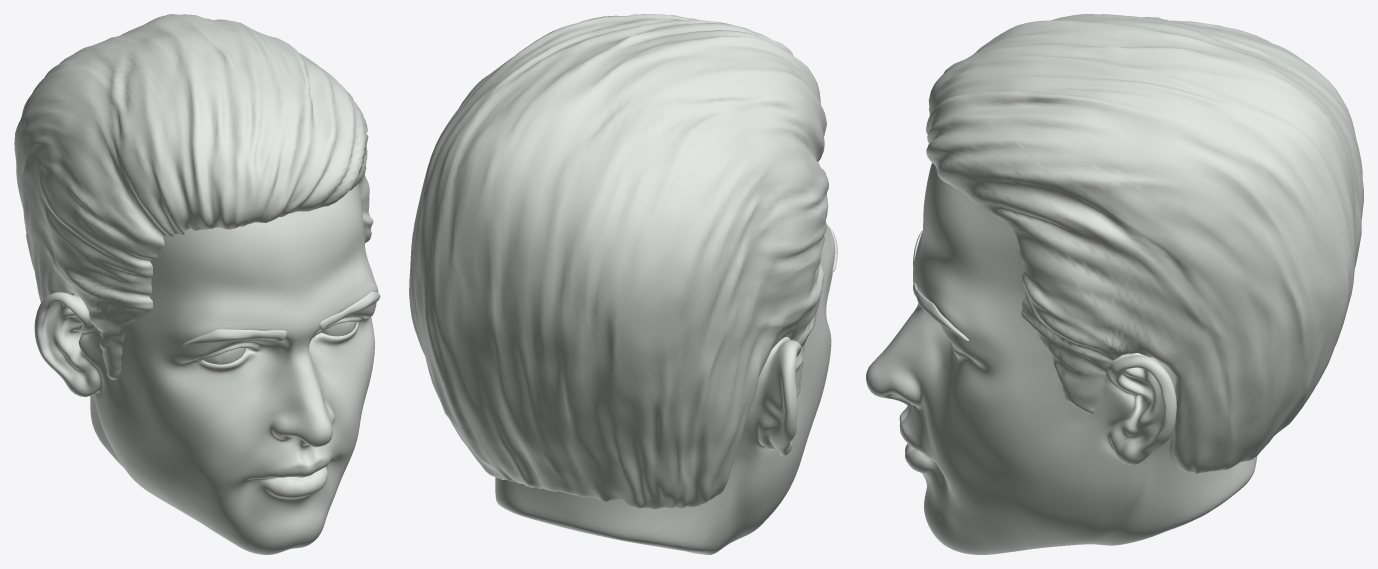
Rendered from ManHead.fbx.
3 views of the same model, side by side, from view 1: azimuth 30°, elevation 25°; view 2: azimuth 150°, elevation 25°; view 3: azimuth 270°, elevation 25° (orthographic). The views are drawn at different scales.
Parts seen in each view (by area): view 1: node_id113; view 2: node_id113; view 3: node_id113.
Part boxes in pixels (x1=…): node_id113: x1=14, y1=14, x2=380, y2=554; node_id113: x1=409, y1=14, x2=837, y2=554; node_id113: x1=866, y1=14, x2=1363, y2=554.
Bounding box in the file's own units: 0.3676 × 0.512 × 0.4559.
Materials: 1 (1 with a texture image).
